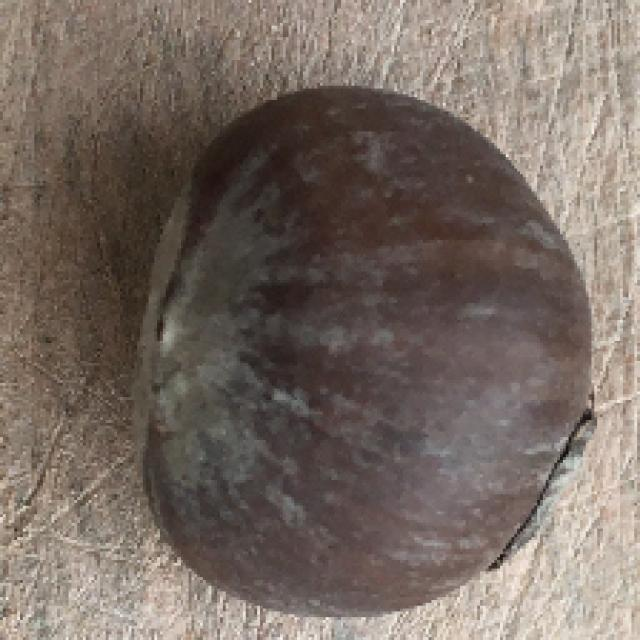DamagedHazelnut: (138, 87, 603, 619)
